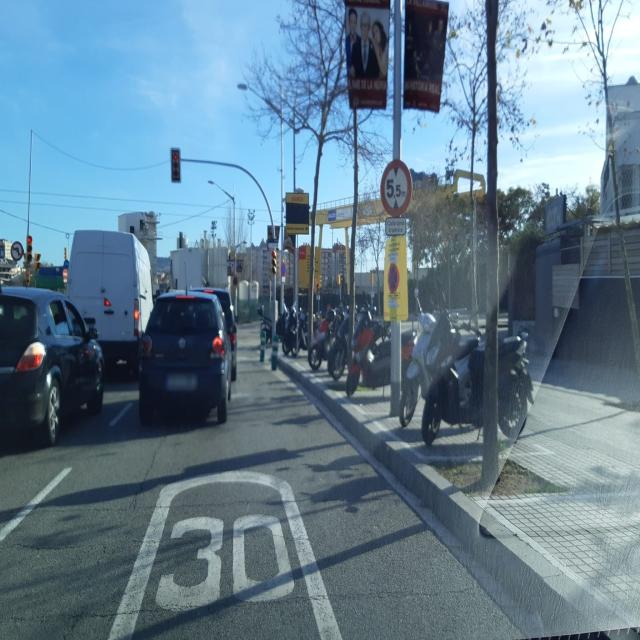bike: (420, 326, 533, 446), (398, 316, 483, 430), (345, 317, 422, 396), (346, 312, 392, 396), (311, 310, 332, 372), (332, 311, 346, 381)
car: (0, 284, 105, 448), (65, 228, 154, 378), (138, 287, 233, 426), (190, 286, 238, 379)
